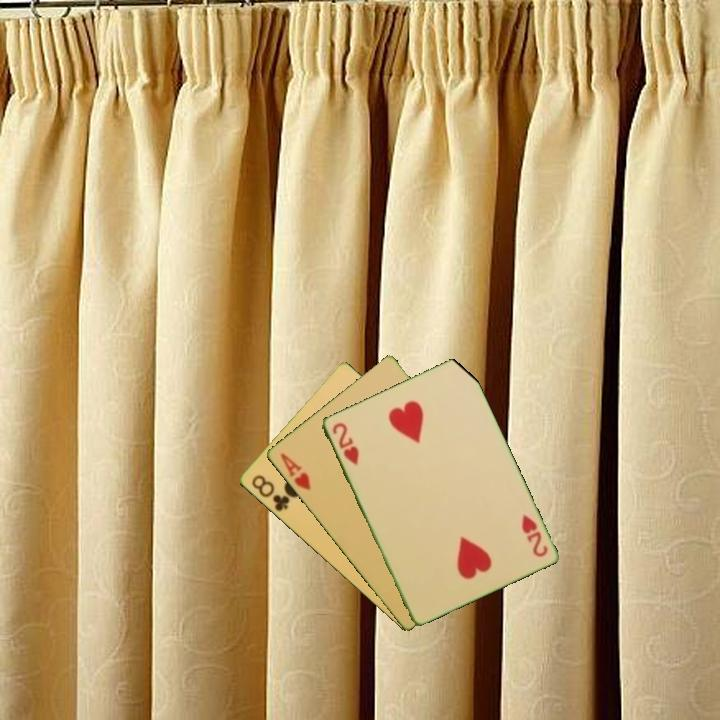2h: (328, 419, 362, 468), (517, 511, 550, 560)
8c: (248, 471, 292, 514)
Ah: (276, 449, 313, 493)
